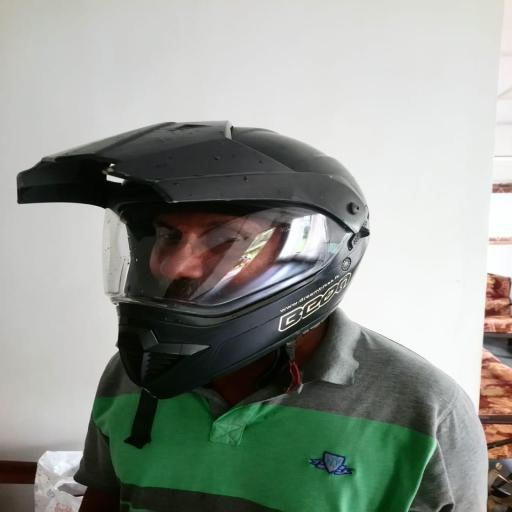with helmet: (0, 120, 371, 401)
